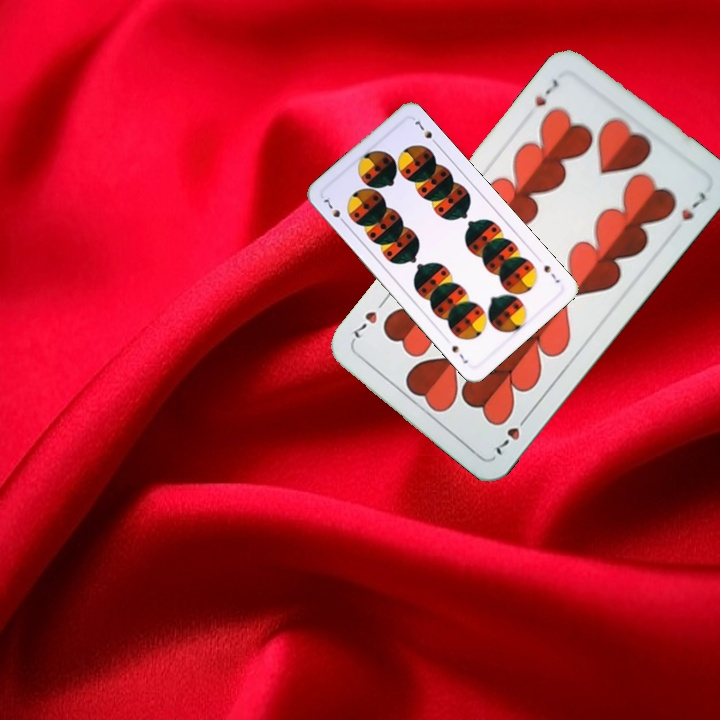H7: (488, 410, 533, 458), (530, 74, 562, 109)
S7: (319, 193, 349, 227), (540, 261, 563, 286)
